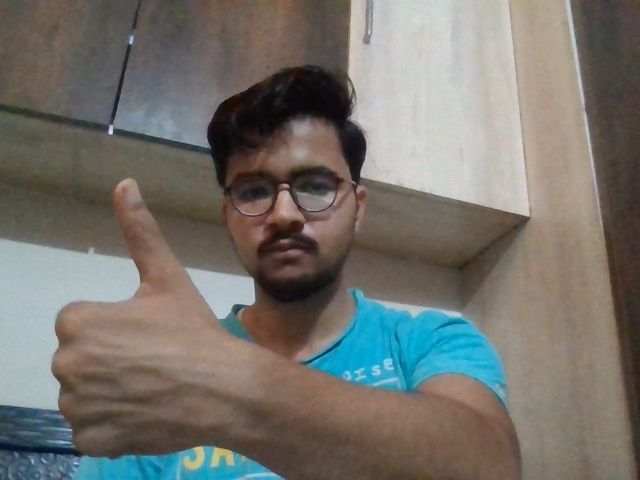yes: (53, 185, 231, 467)
